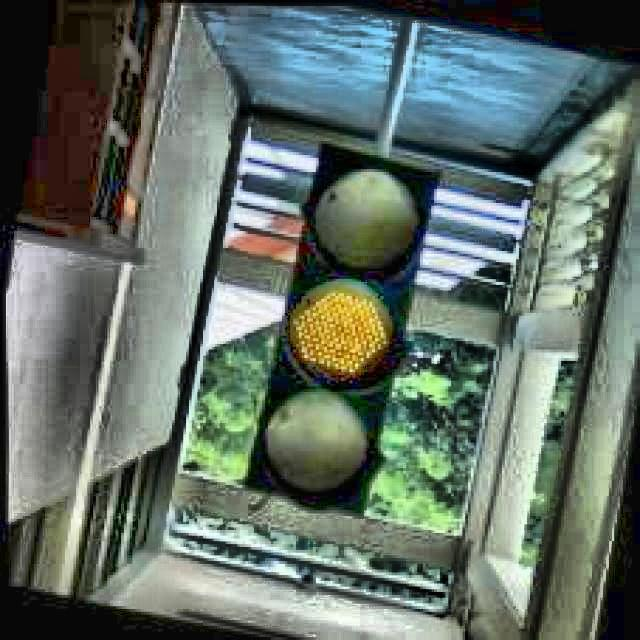yellow: (248, 149, 413, 524)
